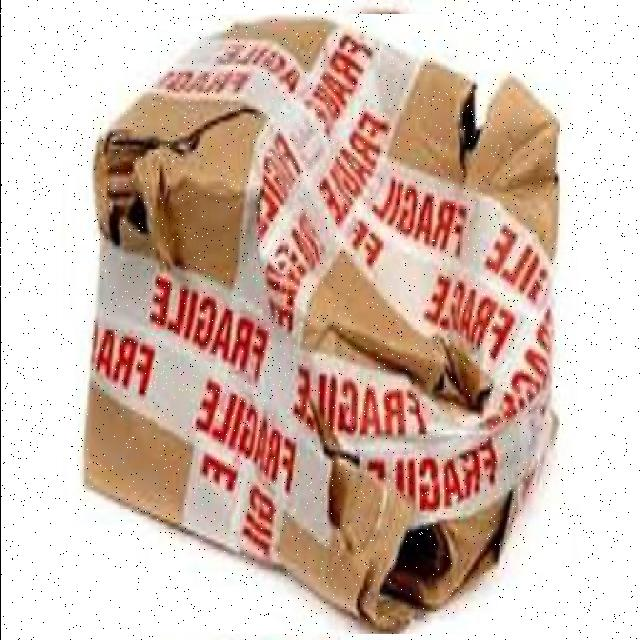defect: (74, 14, 571, 634)
